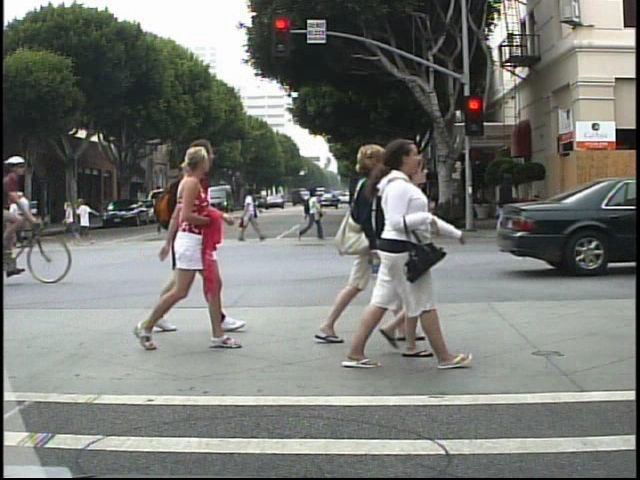person: (369, 136, 450, 376), (152, 144, 238, 352), (370, 159, 449, 368), (313, 143, 387, 355), (187, 140, 240, 339), (295, 184, 329, 246), (235, 185, 266, 250), (407, 177, 436, 243), (15, 188, 39, 246), (373, 187, 388, 223)
